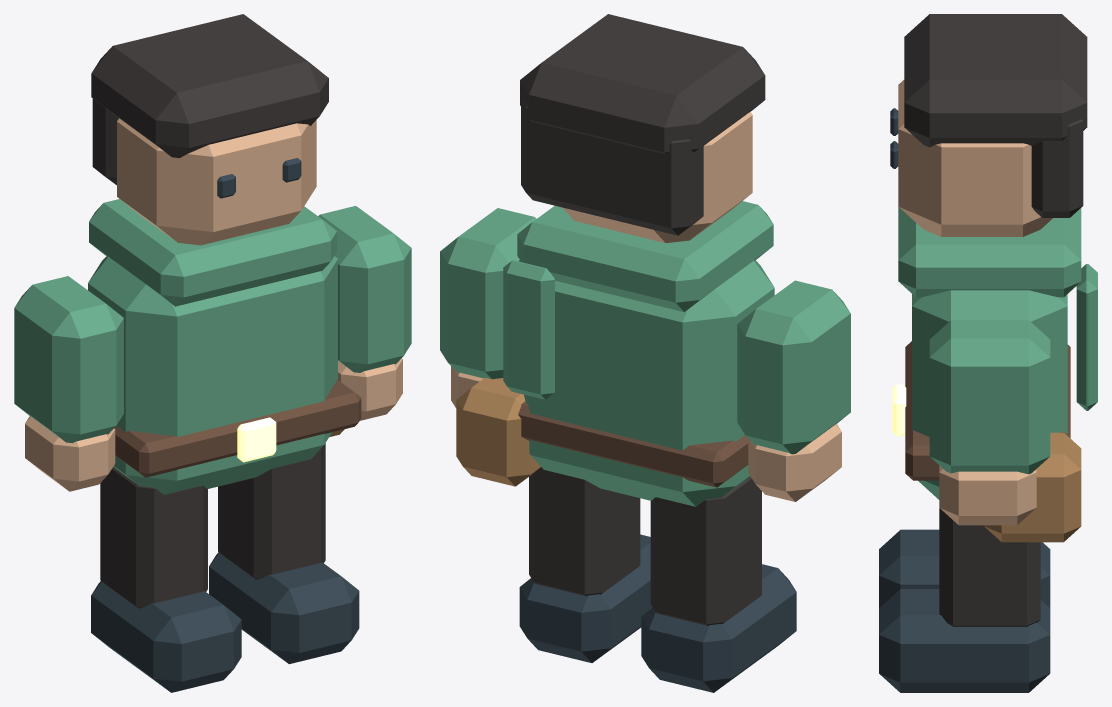
File: character-ally.glb
3 renders of one model, left to right at view 1: azimuth 30°, elevation 25°; view 2: azimuth 150°, elevation 25°; view 3: azimuth 270°, elevation 25°, orthographic. The views are drawn at different scales.
Parts seen in each view (by area): view 1: tunic.003, hair.003, head.003, sleeve.006, scarf.003, leg.006, boot.006, sleeve.007, boot.007, leg.007, belt.003, hand.006 (+3 smaller); view 2: tunic.003, hair.003, sleeve.006, scarf.003, hair-back.003, leg.006, leg.007, sleeve.007, boot.006, boot.007, belt.003, scarf-tail.003 (+3 smaller); view 3: hair.003, sleeve.007, boot.007, head.003, scarf.003, leg.007, tunic.003, satchel.003, hand.007, boot.006, hair-back.003, scarf-tail.003 (+2 smaller).
Boxes of the visible parts, x1,y1,x2,y2 form: tunic.003: (88, 256, 337, 494); hair.003: (91, 14, 328, 158); head.003: (117, 118, 316, 245); sleeve.006: (14, 276, 123, 443); scarf.003: (89, 199, 336, 306); leg.006: (100, 467, 207, 608); boot.006: (91, 581, 241, 692); sleeve.007: (318, 206, 411, 372); boot.007: (209, 552, 359, 664); leg.007: (218, 443, 325, 579); belt.003: (114, 380, 361, 477); hand.006: (25, 416, 115, 491); tunic.003: (518, 260, 774, 506); hair.003: (520, 14, 765, 154); sleeve.006: (737, 280, 850, 454); scarf.003: (517, 201, 773, 311); hair-back.003: (521, 99, 703, 235); leg.006: (650, 476, 761, 625); leg.007: (529, 467, 640, 595); sleeve.007: (440, 208, 536, 379); boot.006: (641, 564, 796, 692); boot.007: (519, 534, 652, 662); belt.003: (518, 401, 748, 487); scarf-tail.003: (503, 260, 554, 399); hair.003: (904, 14, 1087, 147); sleeve.007: (929, 320, 1050, 474); boot.007: (879, 589, 1050, 692); head.003: (898, 80, 1052, 236); scarf.003: (898, 207, 1081, 297); leg.007: (939, 508, 1040, 626); tunic.003: (912, 290, 1067, 499); satchel.003: (984, 432, 1081, 542); hand.007: (939, 465, 1036, 525); boot.006: (879, 529, 1050, 607); hair-back.003: (1031, 119, 1083, 217); scarf-tail.003: (1076, 264, 1097, 410).
Size of the model in its own units: 1.1 by 1.71 by 0.5625.
